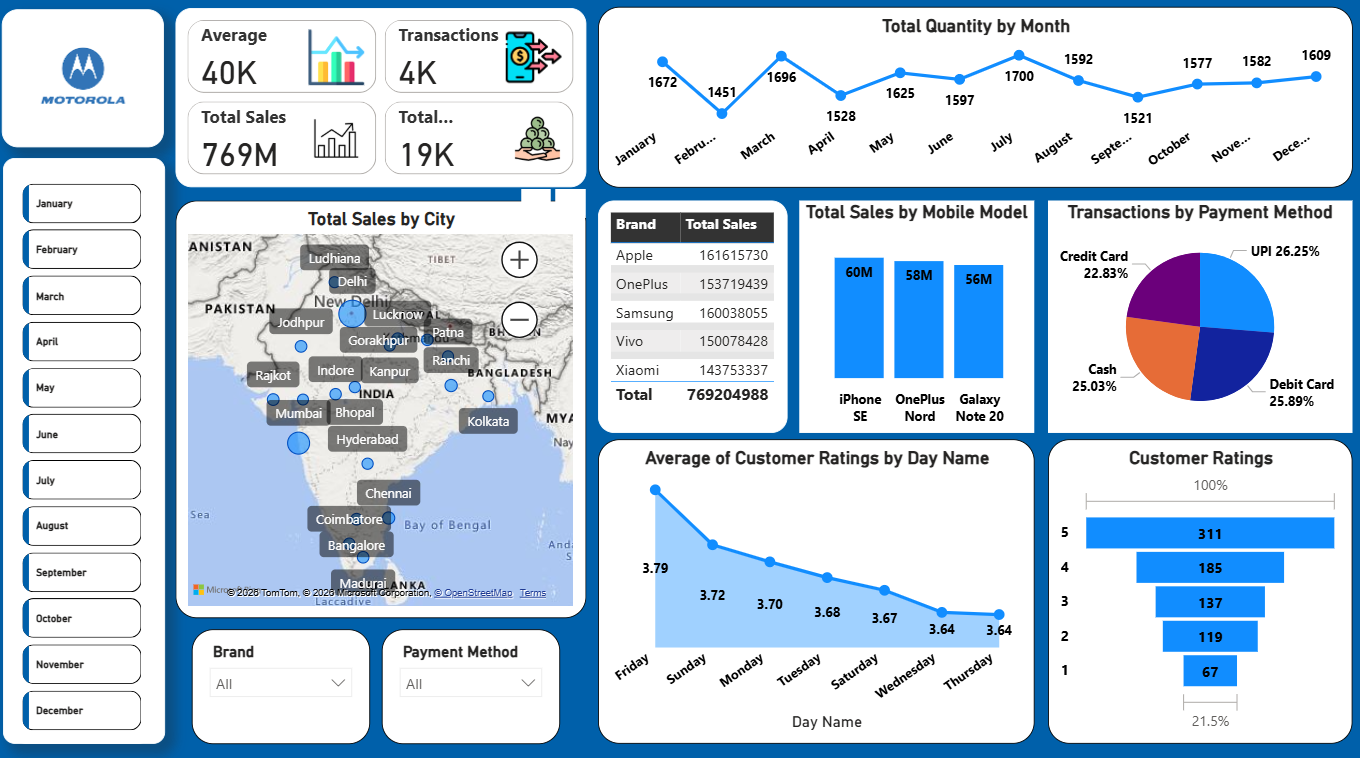

Layout of this report page (visuals, bound fields, positions):
{"tool":"powerbi","page":{"name":"Duplicate of Mobile Sales Data","canvas":[1280,720],"ordinal":0},"visuals":[{"type":"shape","box":[3.8,10,151.2,128.8],"z":0},{"type":"shape","box":[4.1,149.6,150.9,546.1],"z":1000},{"type":"advancedSlicerVisual","fields":{"Values":["Sales_Data.Date.Variation.Date Hierarchy.Month"]},"box":[12.1,161.7,133.9,533.2],"z":2000},{"type":"map","fields":{"Category":["Sales_Data.City"],"Size":["Sales_Data.Total Sales"]},"box":[166,189.4,382.8,389.7],"z":3000},{"type":"lineChart","fields":{"Y":["Sales_Data.Total Quantity"],"Category":["Sales_Data.Date.Variation.Date Hierarchy.Month"]},"box":[559.9,8.2,703.9,168.8],"z":4000},{"type":"columnChart","fields":{"Category":["Sales_Data.Mobile Model"],"Y":["Sales_Data.Total Sales"]},"box":[747.9,189.4,219.6,216.8],"z":5000},{"type":"pieChart","fields":{"Y":["Sales_Data.Transactions"],"Category":["Sales_Data.Payment Method"]},"box":[979.8,189.4,284,216.8],"z":6000},{"type":"funnel","title":"Customer Ratings ","fields":{"Y":["CountNonNull(Sales_Data.Customer Ratings)"],"Category":["Sales_Data.Customer Ratings"]},"box":[979.8,411.7,284,284],"z":7000},{"type":"stackedAreaChart","fields":{"Category":["Sales_Data.Day Name"],"Y":["Avg(Sales_Data.Customer Ratings)"]},"box":[559.9,411.7,407.5,284],"z":8000},{"type":"tableEx","fields":{"Values":["Sales_Data.Brand","Sales_Data.Total Sales"]},"box":[559.9,189.4,177,216.8],"z":9000},{"type":"slicer","fields":{"Values":["Sales_Data.Payment Method"]},"box":[358.1,588.7,166,107],"z":11000},{"type":"slicer","fields":{"Values":["Sales_Data.Brand"]},"box":[181.1,588.7,166,107],"z":12000},{"type":"image","box":[21.7,18.1,114.6,114.6],"z":14000},{"type":"cardVisual","fields":{"Data":["Sales_Data.Average","Sales_Data.Transactions","Sales_Data.Total Sales","Sales_Data.Total Quantity"]},"box":[166,9.6,382.8,167.4],"z":15000}]}

Visuals, with their boxes in screenshot pixels (x1, y1, x2, y2), scaled from the page's 1280x720 canvas onto the 1360x758 screenshot:
shape: 4/11/165/146
shape: 4/157/165/732
advancedSlicerVisual - Sales_Data.Date.Variation.Date Hierarchy.Month: 13/170/155/732
map - Sales_Data.City x Sales_Data.Total Sales: 176/199/583/610
lineChart - Sales_Data.Total Quantity x Sales_Data.Date.Variation.Date Hierarchy.Month: 595/9/1343/186
columnChart - Sales_Data.Mobile Model x Sales_Data.Total Sales: 795/199/1028/428
pieChart - Sales_Data.Transactions x Sales_Data.Payment Method: 1041/199/1343/428
"Customer Ratings " funnel: 1041/433/1343/732
stackedAreaChart - Sales_Data.Day Name x Avg(Sales_Data.Customer Ratings): 595/433/1028/732
tableEx - Sales_Data.Brand x Sales_Data.Total Sales: 595/199/783/428
slicer - Sales_Data.Payment Method: 380/620/557/732
slicer - Sales_Data.Brand: 192/620/369/732
image: 23/19/145/140
cardVisual - Sales_Data.Average x Sales_Data.Transactions: 176/10/583/186
